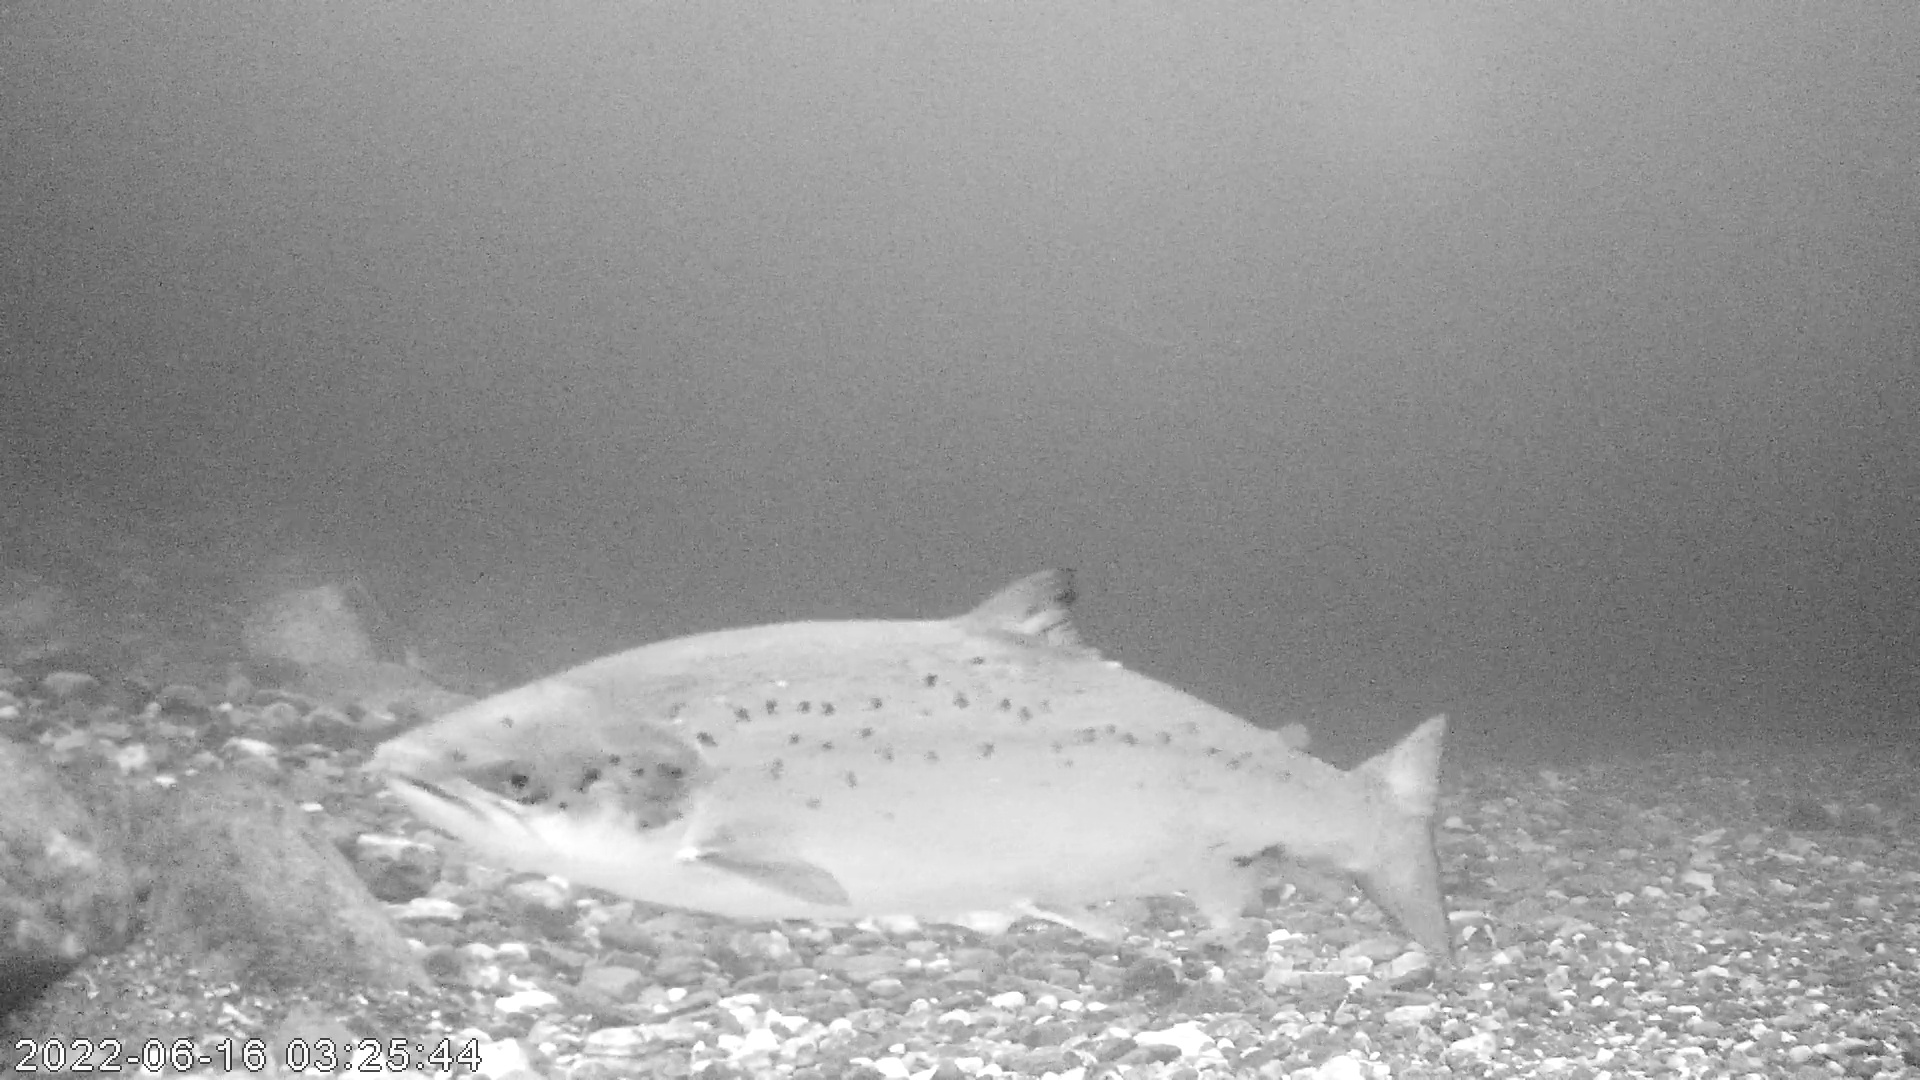salmon: (372, 564, 1458, 969)
